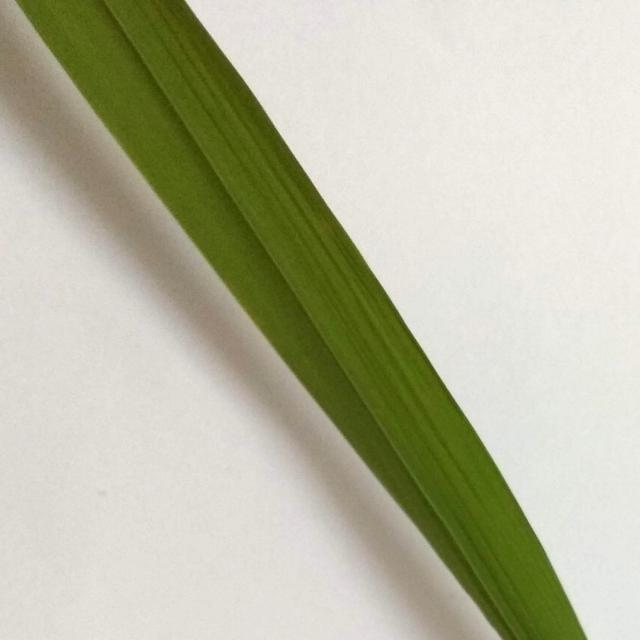Rice_Healthy: (17, 0, 586, 640)
